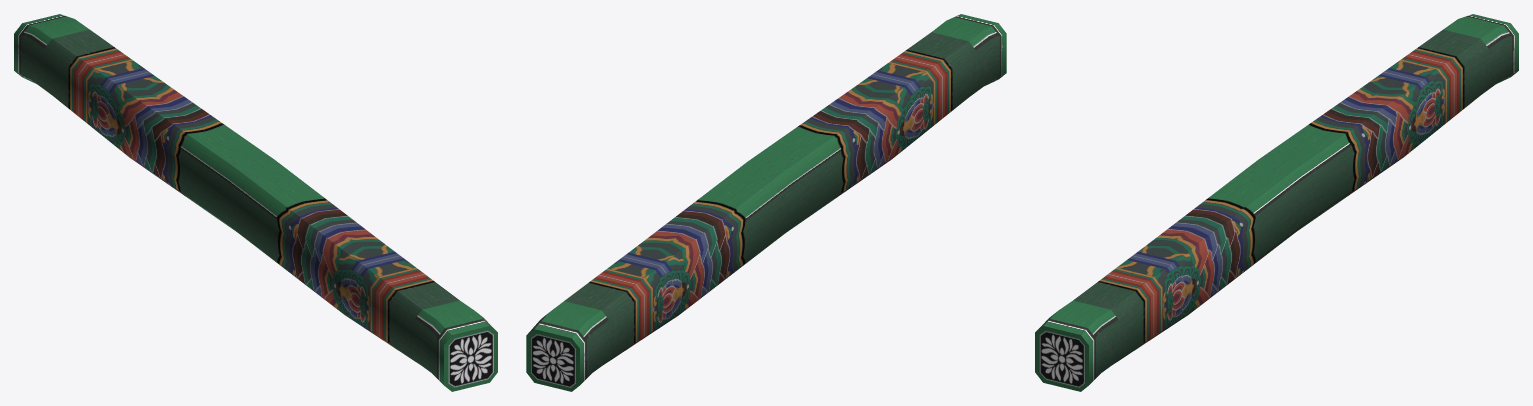
File: SM_Jungbo01a.fbx
The picture shows the model from 3 angles, left to right: view 1: azimuth 30°, elevation 25°; view 2: azimuth 150°, elevation 25°; view 3: azimuth 330°, elevation 25°; orthographic projection.
Visible parts, largest first — view 1: SM_Jungbo01a; view 2: SM_Jungbo01a; view 3: SM_Jungbo01a.
Boxes of the visible parts, bbox=[...] form: SM_Jungbo01a: bbox=[14, 14, 497, 391]; SM_Jungbo01a: bbox=[526, 14, 1006, 391]; SM_Jungbo01a: bbox=[1035, 14, 1518, 391].
Bounding box in the file's own units: 28 × 386 × 33.34.
1 material, 1 textured.
